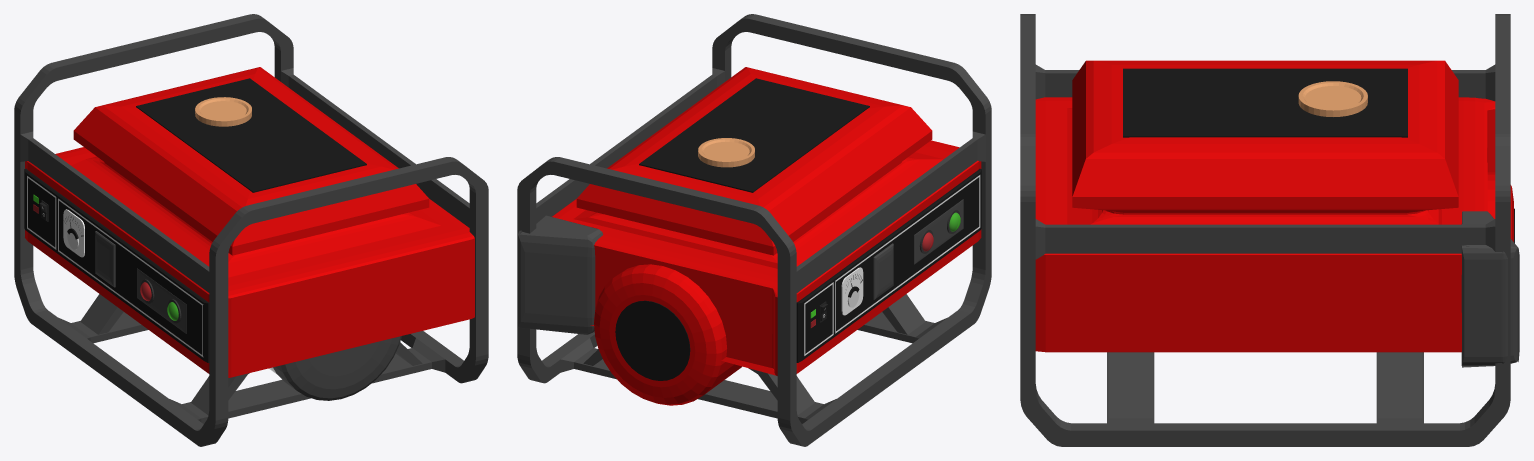
The model's file is Generator.fbx.
3 renders of one model, left to right at view 1: azimuth 30°, elevation 25°; view 2: azimuth 150°, elevation 25°; view 3: azimuth 270°, elevation 25°, orthographic. The views are drawn at different scales.
Visible parts, largest first — view 1: Cube.001, Cube, Cube.015, Cube.003, Cylinder.004, Cube.013, Cylinder.005, Cube.005, Cube.016, Cube.014, Cube.009, Cylinder.006; view 2: Cube.001, Cube, Cube.015, Cylinder.001, Cube.002, Cube.003, Cylinder.007, Cube.013, Cylinder.005, Cube.005, Cube.016, Cube.014 (+2 smaller); view 3: Cube.001, Cube, Cube.015, Cube.002, Cube.013, Cylinder.005, Cylinder.001.
Boxes of the visible parts, box(x1,y1,x2,y2) form: Cube.001: box(25, 67, 474, 377); Cube: box(14, 14, 488, 446); Cube.015: box(136, 78, 366, 192); Cube.003: box(24, 168, 209, 362); Cylinder.004: box(273, 336, 401, 400); Cube.013: box(80, 294, 422, 415); Cylinder.005: box(195, 97, 251, 126); Cube.005: box(27, 176, 203, 356); Cube.016: box(137, 268, 186, 333); Cube.014: box(95, 231, 115, 287); Cube.009: box(63, 209, 84, 257); Cylinder.006: box(140, 279, 181, 323); Cube.001: box(552, 67, 981, 375); Cube: box(517, 14, 991, 446); Cube.015: box(639, 78, 869, 192); Cylinder.001: box(594, 264, 741, 405); Cube.002: box(517, 215, 603, 334); Cube.003: box(796, 168, 981, 362); Cylinder.007: box(615, 300, 690, 380); Cube.013: box(583, 294, 925, 415); Cylinder.005: box(698, 138, 754, 167); Cube.005: box(804, 175, 980, 355); Cube.016: box(914, 199, 963, 264); Cube.014: box(873, 243, 893, 299); Cube.001: box(1035, 60, 1495, 352); Cube: box(1020, 14, 1510, 446); Cube.015: box(1123, 68, 1407, 137); Cube.002: box(1461, 211, 1519, 367); Cube.013: box(1109, 352, 1421, 418); Cylinder.005: box(1298, 81, 1367, 116); Cylinder.001: box(1487, 172, 1513, 241).
Size of the model in its own units: 1136 by 925 by 1437.
